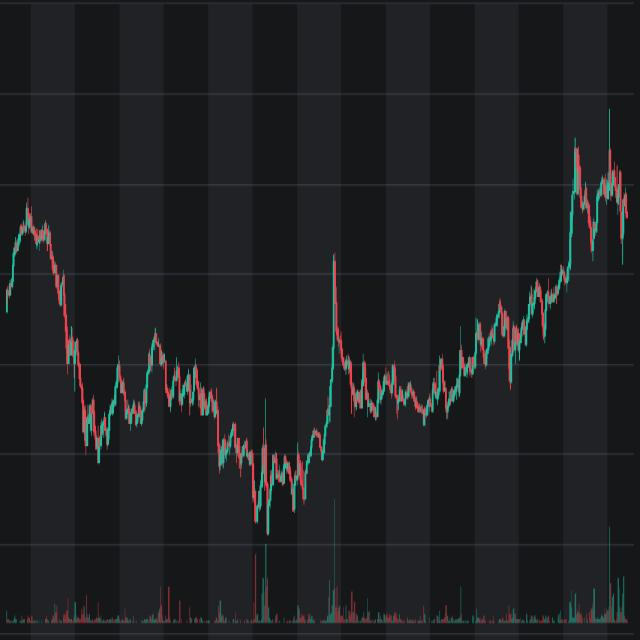Rising-Wedge: (346, 257, 580, 582)
